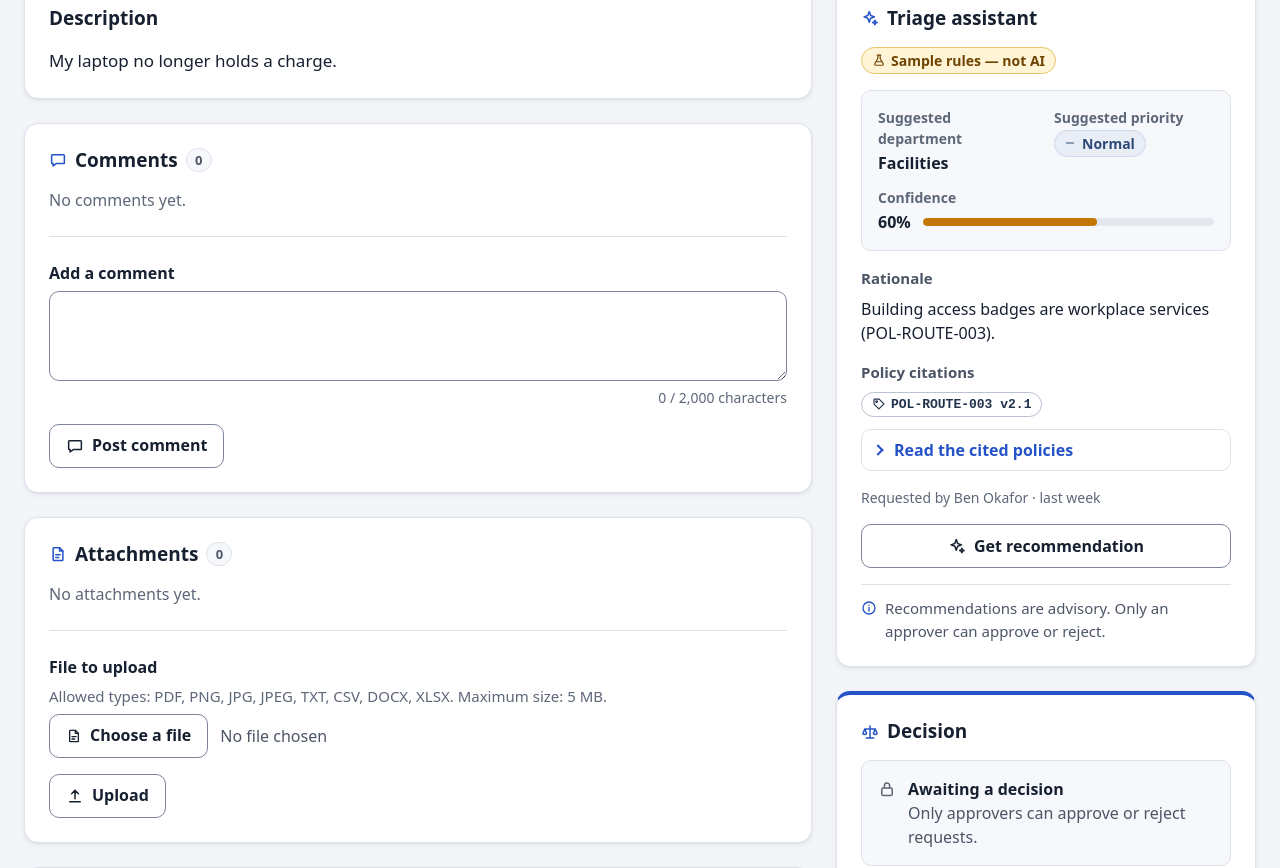
Scenario: TriagePanel › labels sample-rule recommendations as not AI and shows policy citations with their text
This screenshot has width=1280, height=868.
(page scrolled)
Expected: the text "Sample rules — not AI" is shown, [861,47,1056,74]
Click the heading "Read the cited policies".
click(984, 450)  # box [894,439,1073,461]
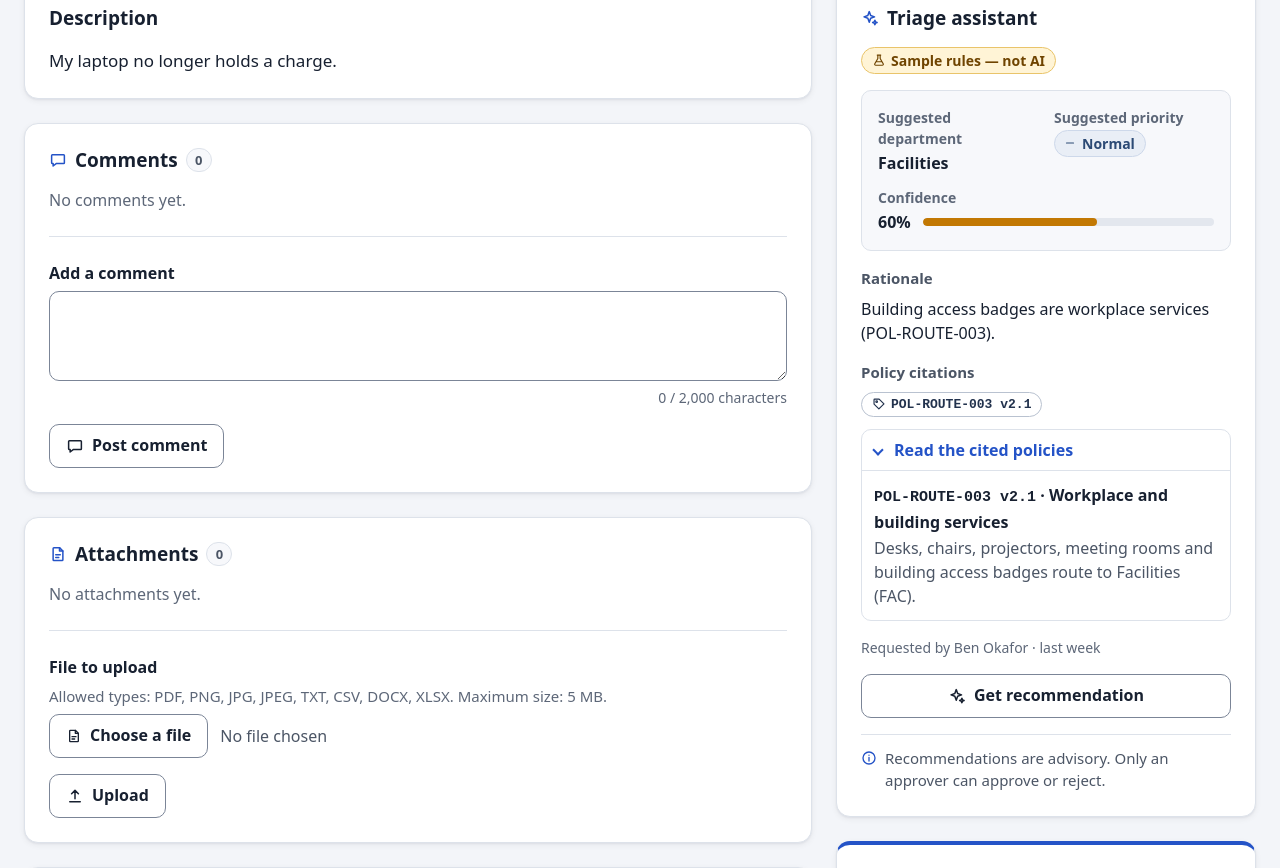
Expected: the text "60%" is shown, [878,210,911,234]
Expected: the text "building access badges route to Facilities" is shown, [874,537,1213,607]
